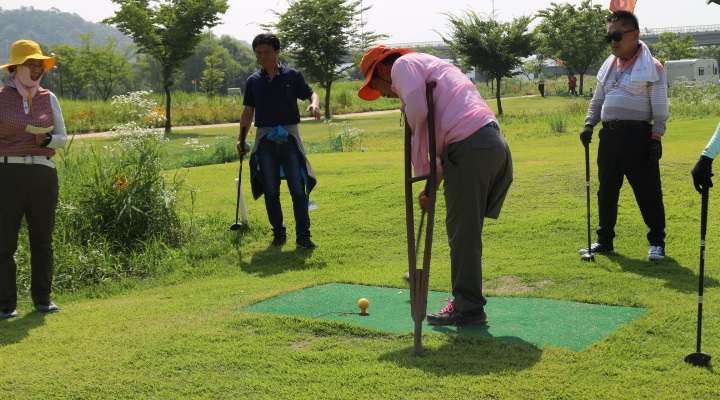crutches: (361, 46, 514, 347)
